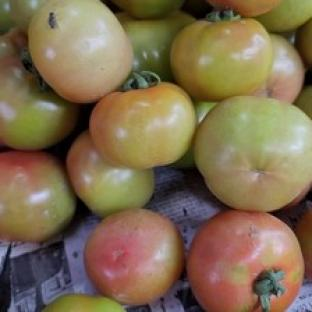Tomato: (194, 97, 311, 211), (187, 209, 303, 311), (90, 76, 196, 168), (84, 208, 183, 306), (0, 28, 79, 150), (170, 19, 272, 101), (66, 130, 154, 217), (0, 151, 76, 242), (116, 10, 194, 80), (254, 34, 305, 103), (42, 293, 125, 311), (294, 202, 311, 279), (294, 14, 311, 68), (172, 144, 196, 168), (294, 85, 311, 118)
